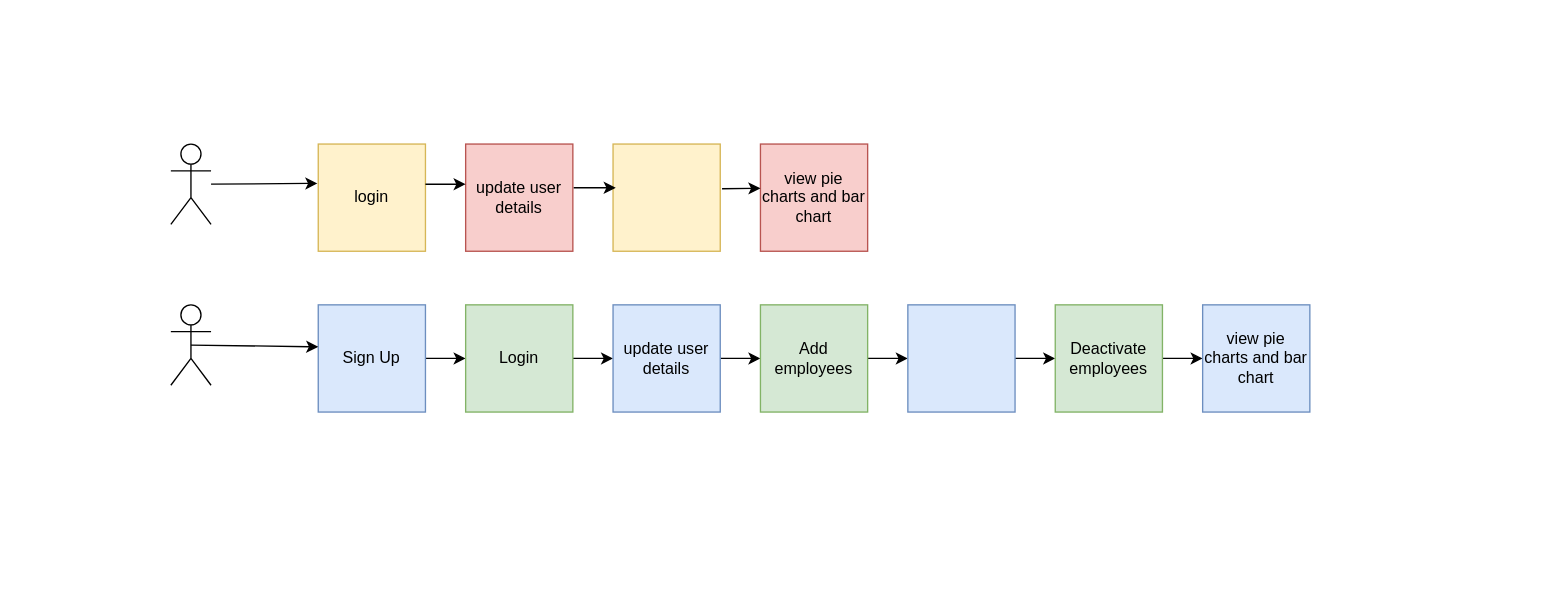
Image size: 1560x595. Some labels were removed from this diagram. The shapes that lost their labels are listed below. From the top down, each one's centre as x and y in pixels, then its label:
At (x=190, y=183): "employee".
At (x=666, y=197): "add tasks for current and past dates".
At (x=190, y=344): "employer".
At (x=961, y=358): "Update employees".
